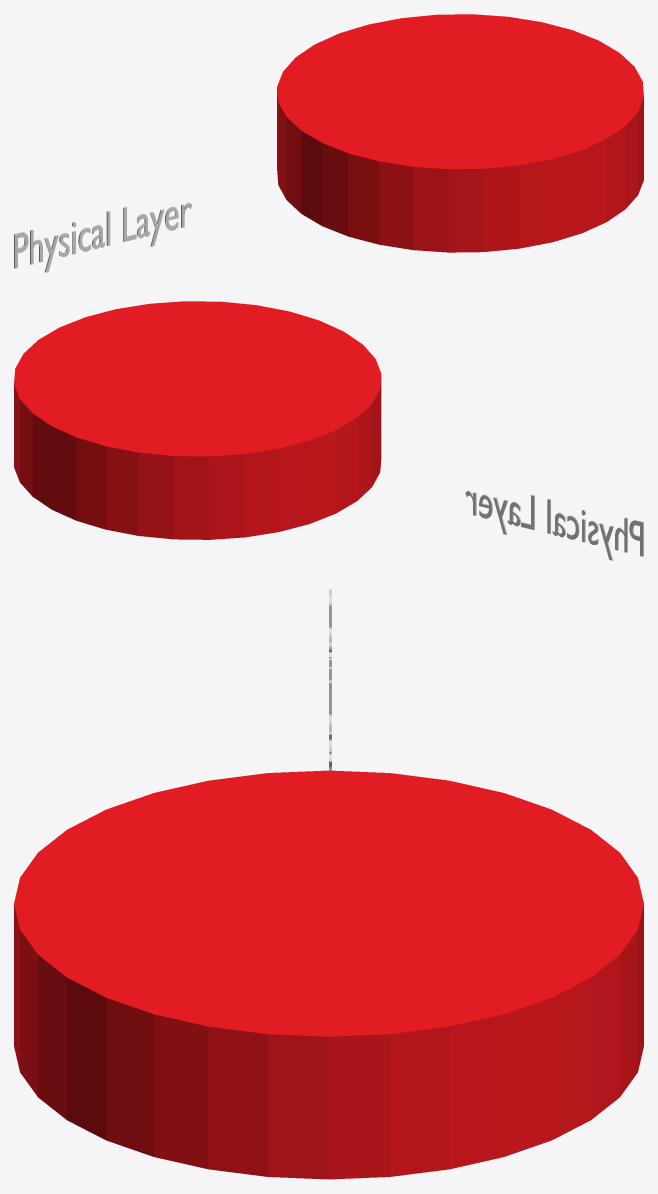
The picture shows the model from 3 angles, top to bottom: view 1: azimuth 30°, elevation 25°; view 2: azimuth 150°, elevation 25°; view 3: azimuth 270°, elevation 25°; orthographic projection. The views are drawn at different scales.
Parts seen in each view (by area): view 1: Silinder, Teks; view 2: Silinder, Teks; view 3: Silinder.
Boxes of the visible parts, x1,y1,x2,y2 form: Silinder: (277,14,643,252); Teks: (14,202,192,272); Silinder: (14,301,381,539); Teks: (465,490,643,560); Silinder: (14,770,643,1179).
Size of the model in its own units: 380 by 50 by 200.
